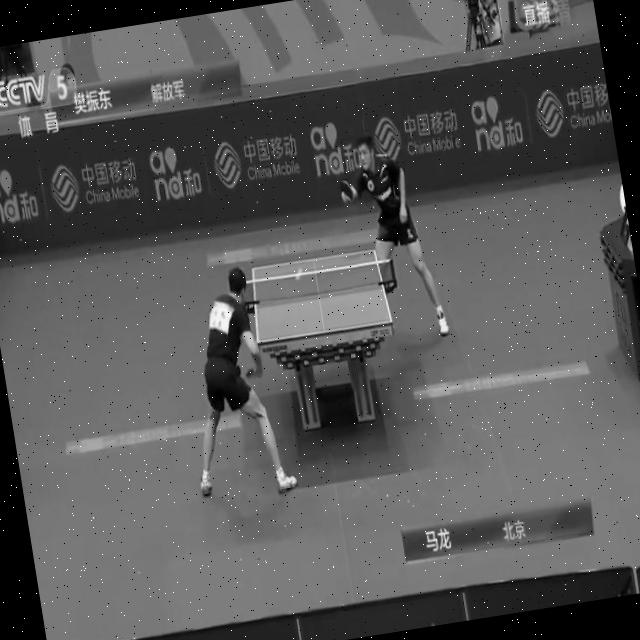ping-pong-ball: (292, 266, 306, 280)
